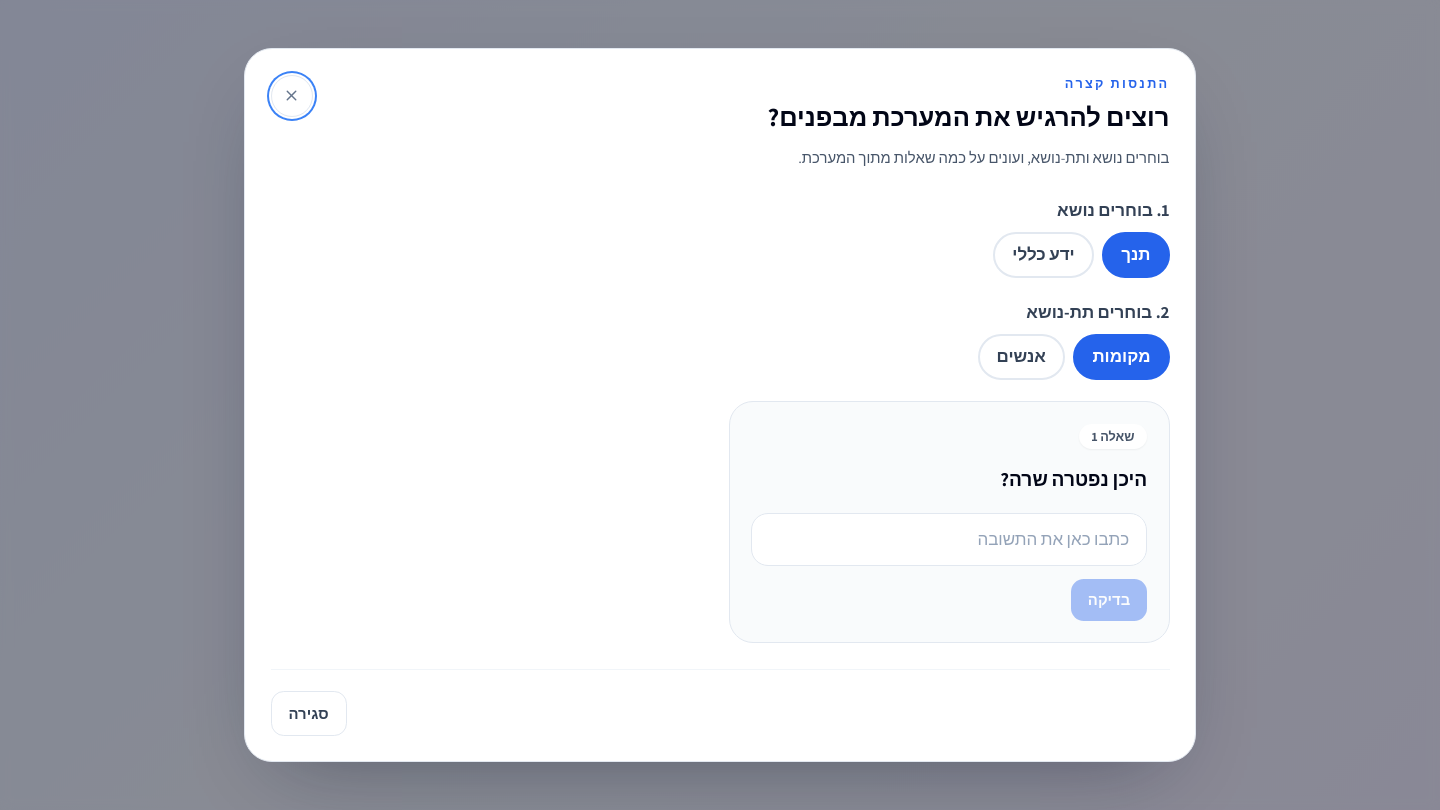
it: חלון ההתנסות › בוחרים נושא ותת-נושא, ורק השאלות שלהם מוצגות
Expected: the text "היכן נפטרה שרה?" is shown, [1000, 466, 1147, 491]
Expected: the text "מי בנה תיבה?" is not shown
Click the button "אנשים" at (1021, 357), box [978, 334, 1065, 380]
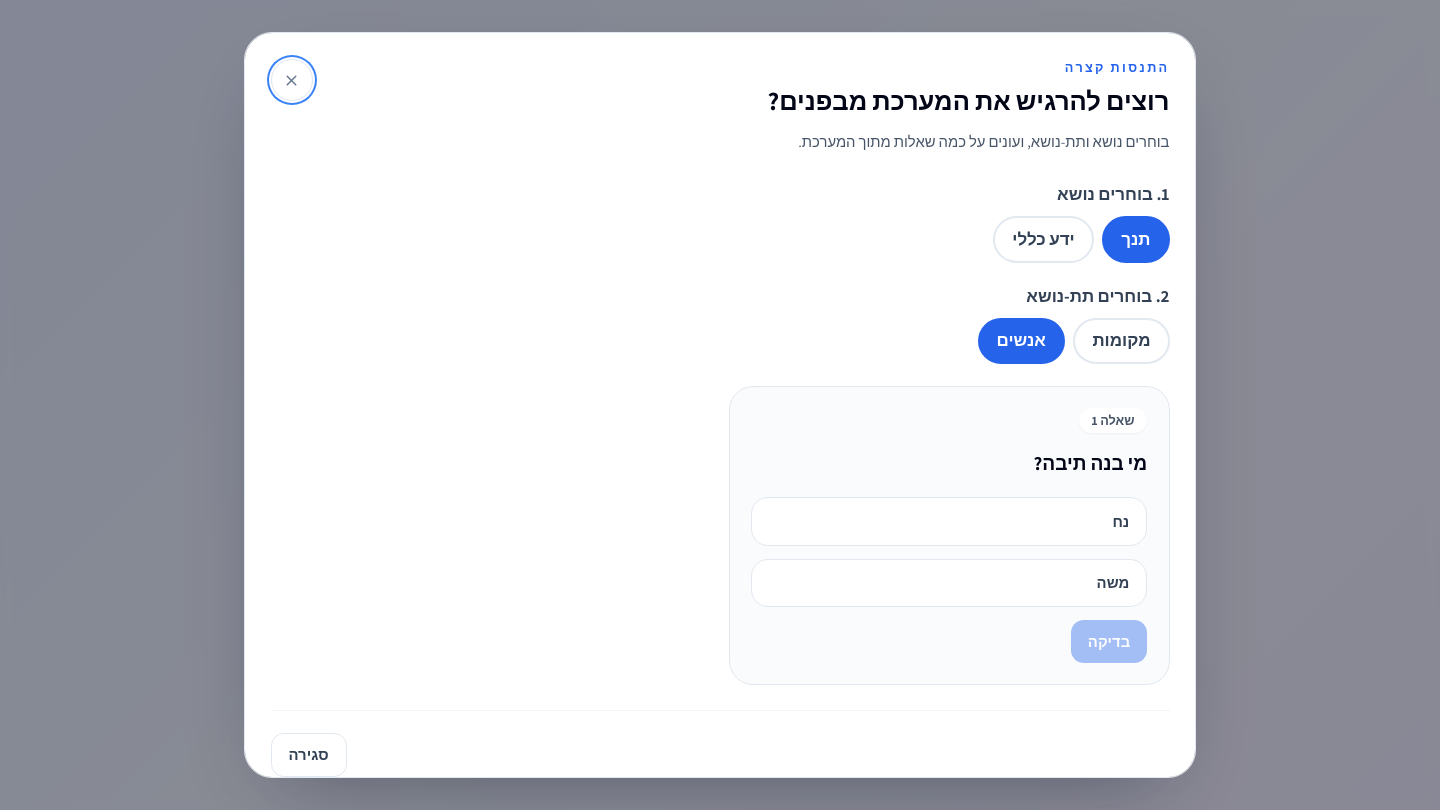
Result: the text "מי בנה תיבה?" is shown at [1034, 450, 1147, 475]
Click the button "ידע כללי" at (1044, 239), box [993, 216, 1094, 263]
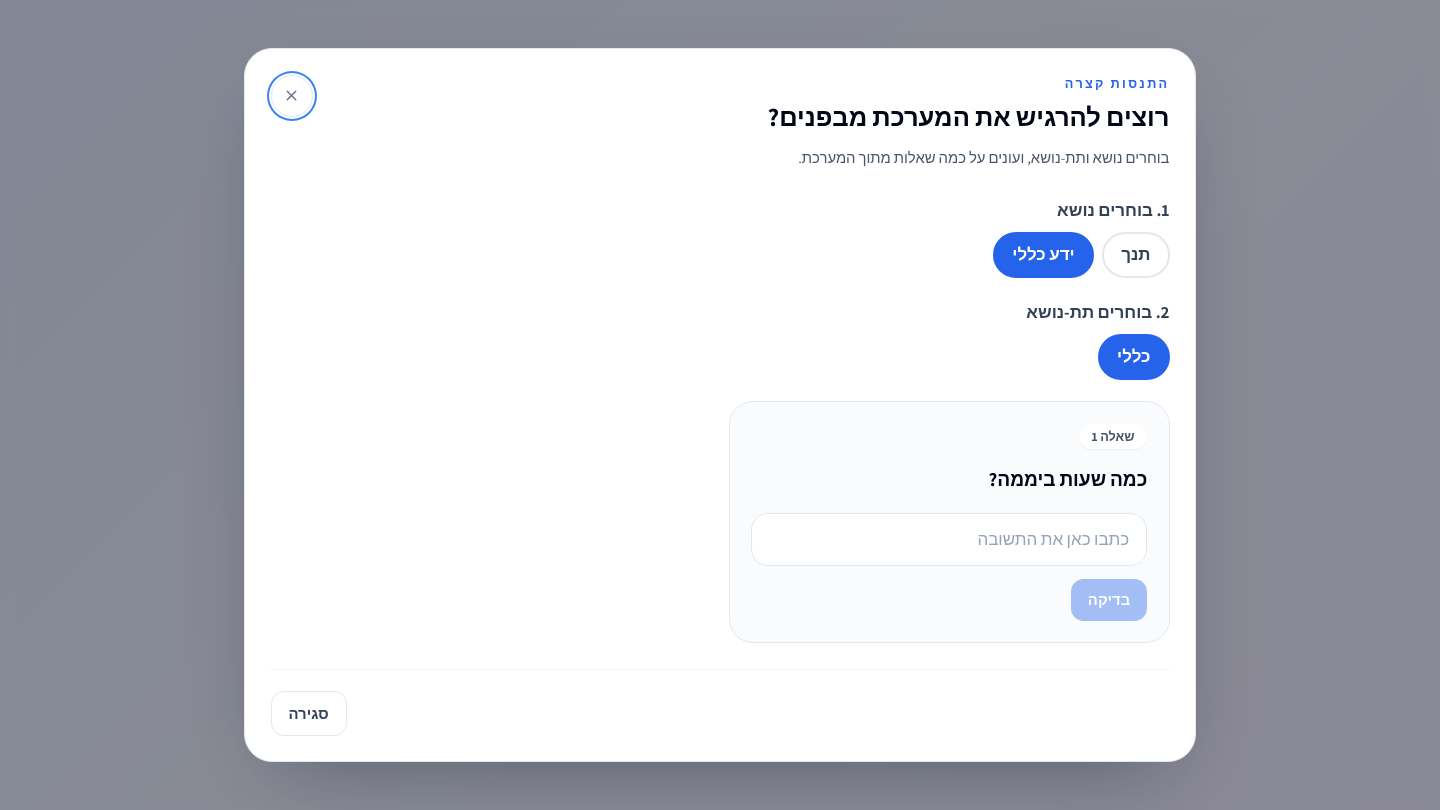
Result: the text "כמה שעות ביממה?" is shown at [988, 466, 1147, 491]
